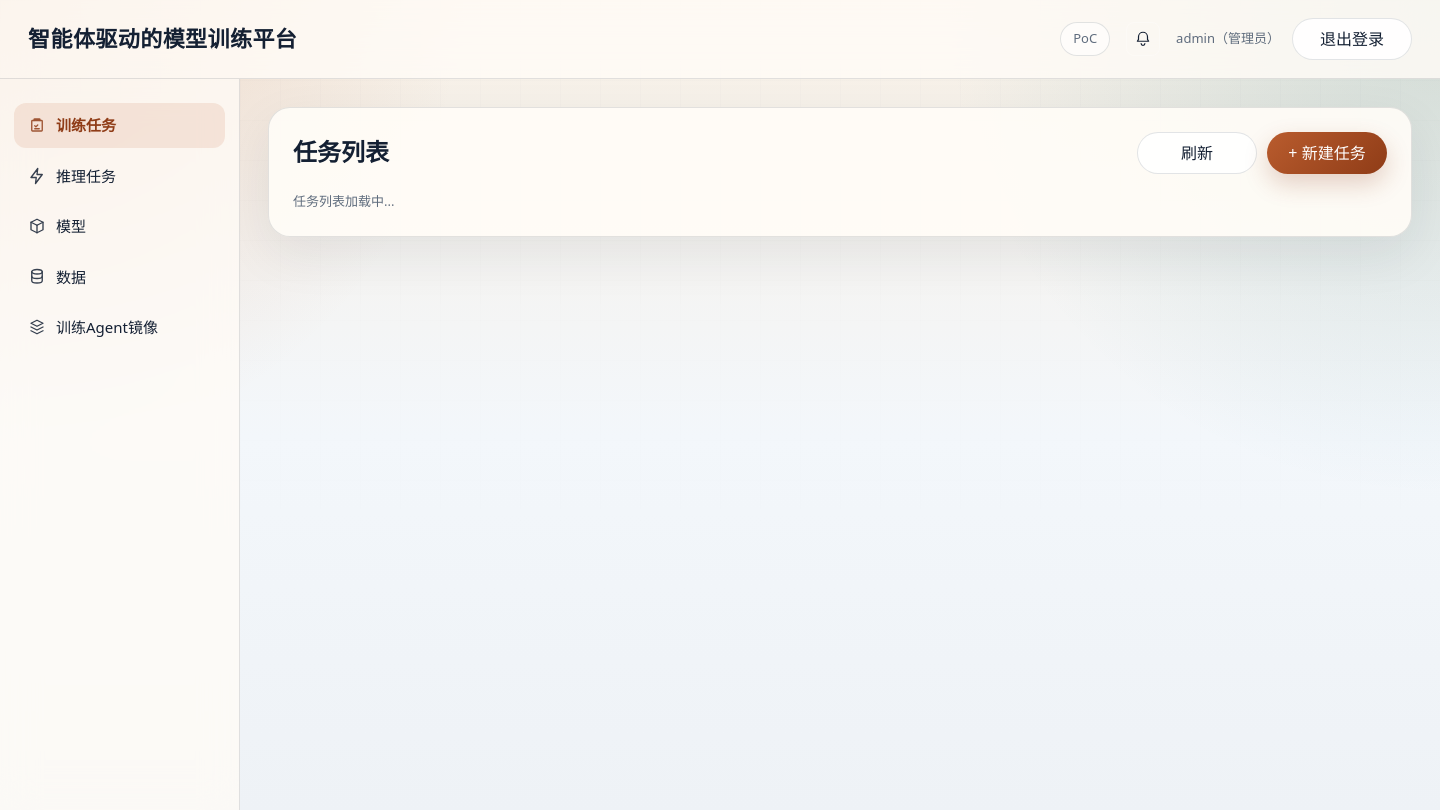
Test case: Inference task flow › lists inference tasks and opens a detail view
Click the button with test id "sidebar-menu-infer".
click(120, 176)  # box [14,154,225,198]
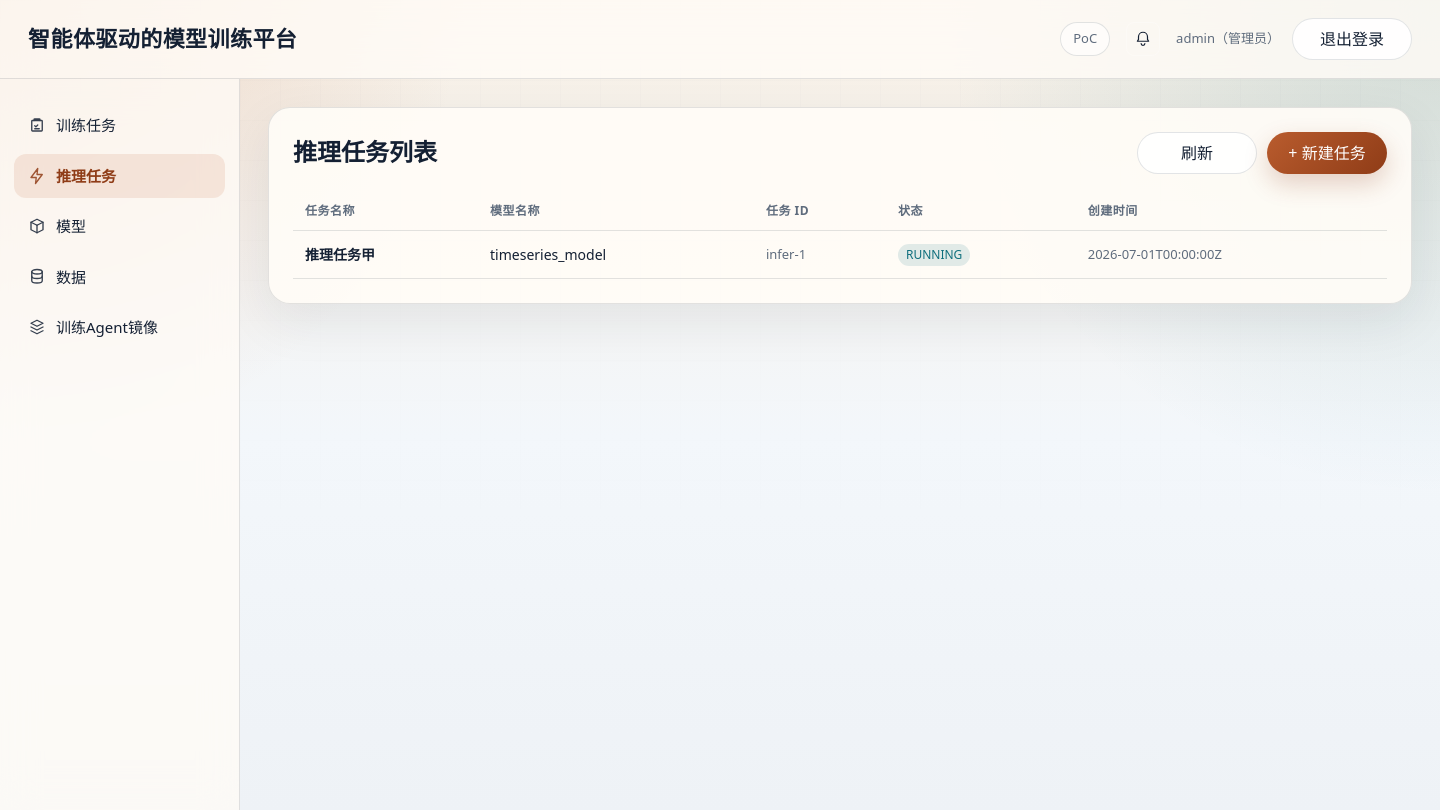
Now the button with test id "infer-task-list-item-infer-1" is shown
Click the button with test id "infer-task-list-item-infer-1".
click(840, 254)  # box [293,230,1387,278]
(page scrolled)
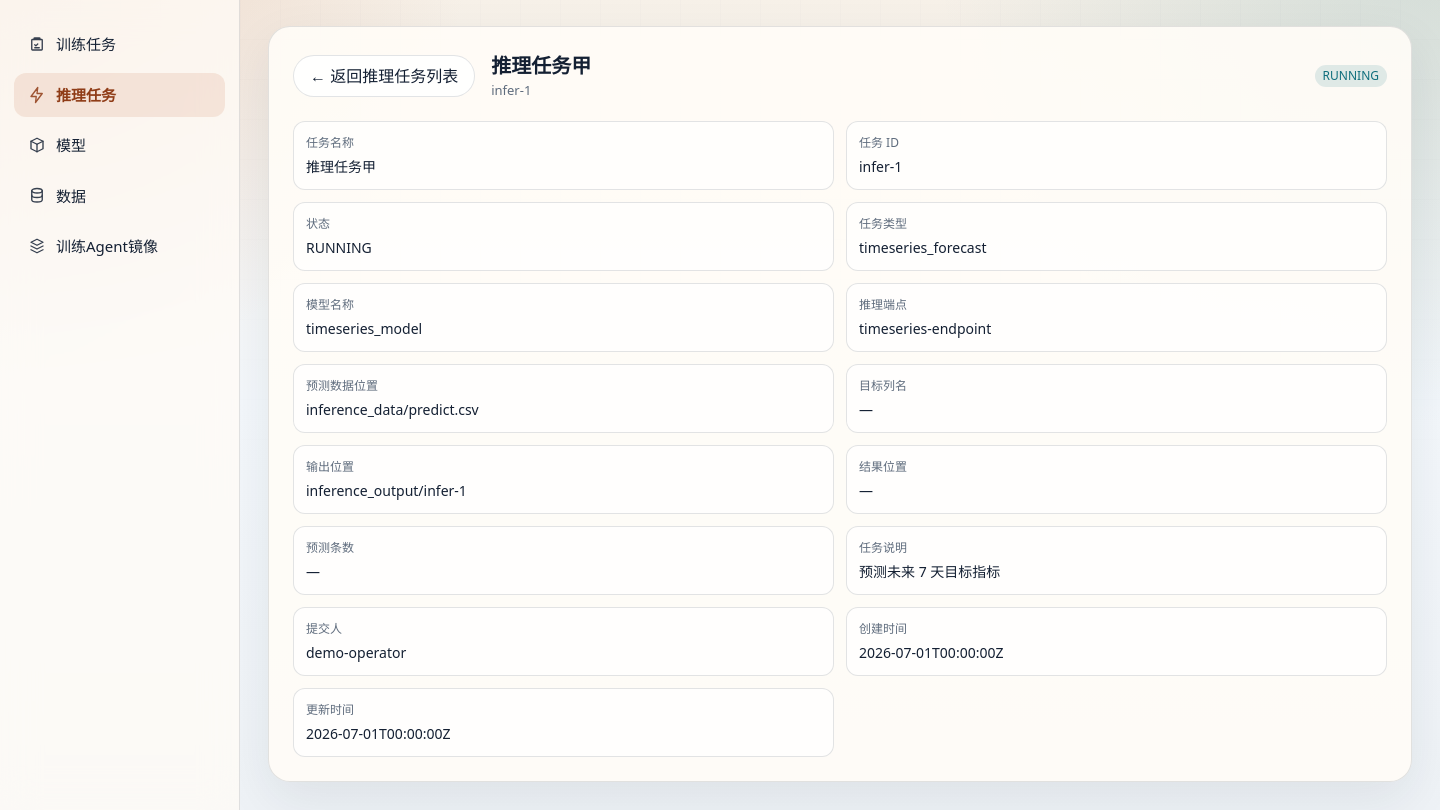
Now the element with test id "infer-task-detail-view" is shown
Now the element with test id "infer-task-detail-info" shows "timeseries-endpoint", box [859,318,991,338]
